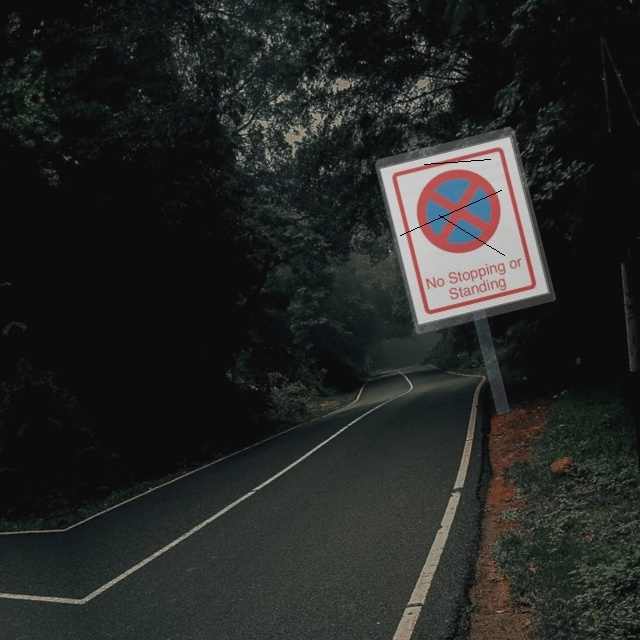No_Stopping_or_Standing: (398, 152, 522, 274)
